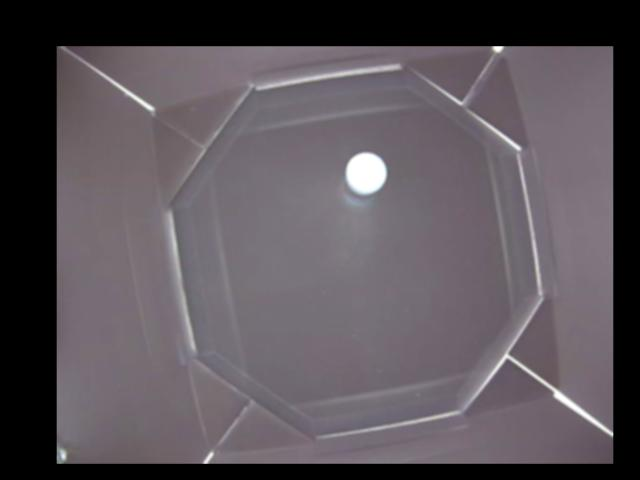Medicine: (342, 151, 388, 205)
